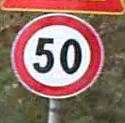limite 50: (6, 15, 103, 97)
